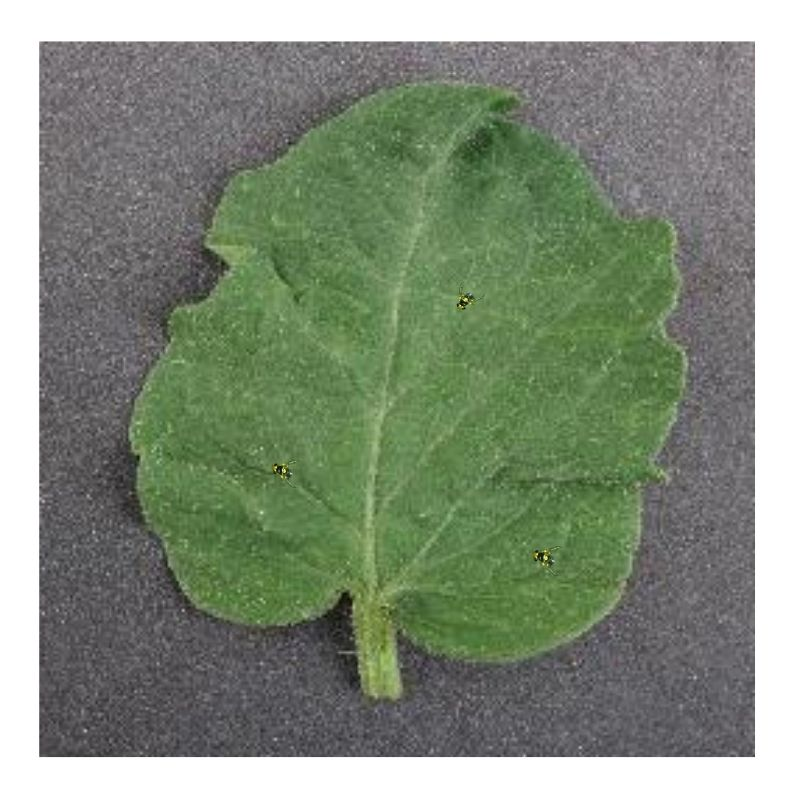liriomyza: (529, 542, 563, 576), (269, 457, 303, 489), (453, 282, 487, 312)
